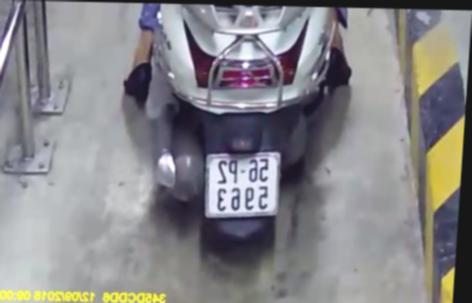License_Plate: (201, 146, 289, 224)
